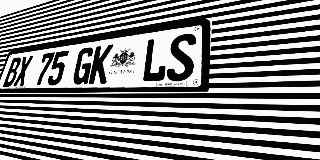5: (46, 50, 69, 85)
7: (33, 52, 55, 86)
B: (3, 57, 22, 87)
G: (71, 46, 96, 85)
K: (88, 44, 114, 84)
L: (140, 36, 170, 82)
S: (166, 32, 197, 82)
X: (13, 55, 33, 87)
